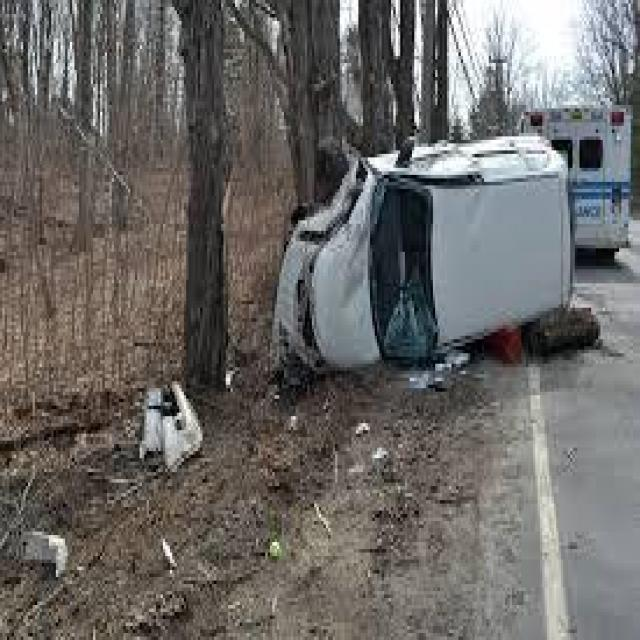accident: (263, 133, 579, 385)
